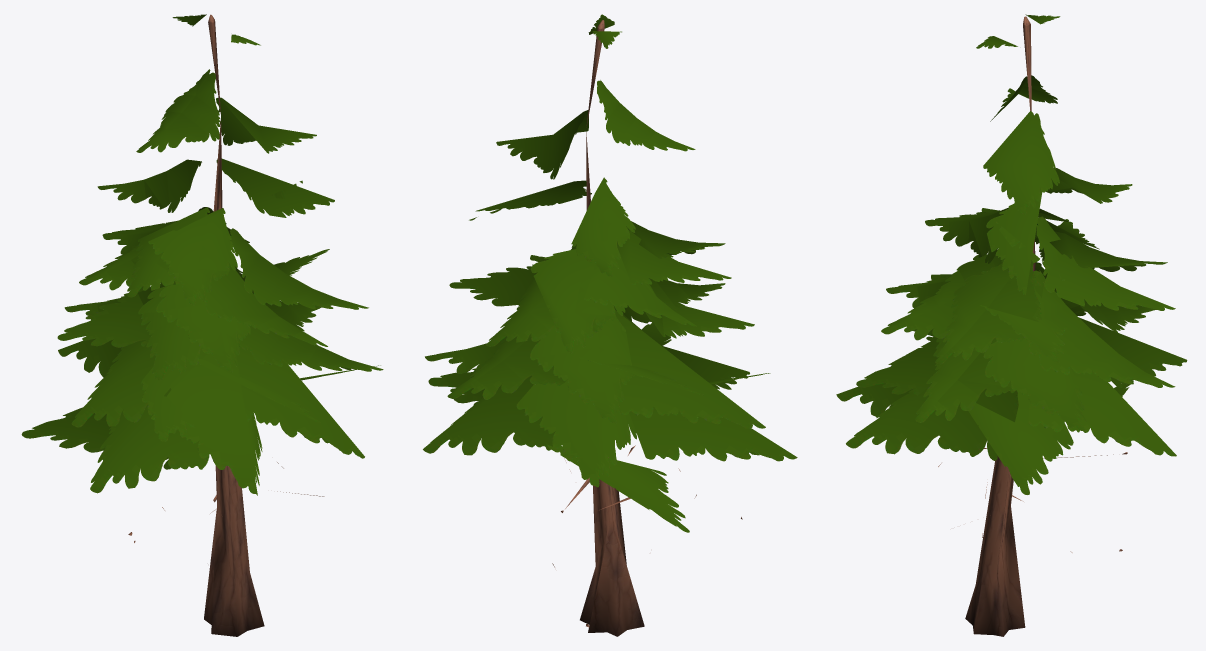
Rendered from pine_4.glb.
3 renders of one model, left to right at view 1: azimuth 30°, elevation 25°; view 2: azimuth 150°, elevation 25°; view 3: azimuth 270°, elevation 25°, orthographic. The views are drawn at different scales.
Visible parts, largest first — view 1: Pine_4; view 2: Pine_4; view 3: Pine_4.
Part boxes in pixels (left/top/right/bottom): Pine_4: left=21, top=14, right=383, bottom=636; Pine_4: left=423, top=14, right=797, bottom=636; Pine_4: left=836, top=14, right=1187, bottom=636.
Bounding box in the file's own units: 5.8 × 9.94 × 5.37.
2 materials, 2 textured.
